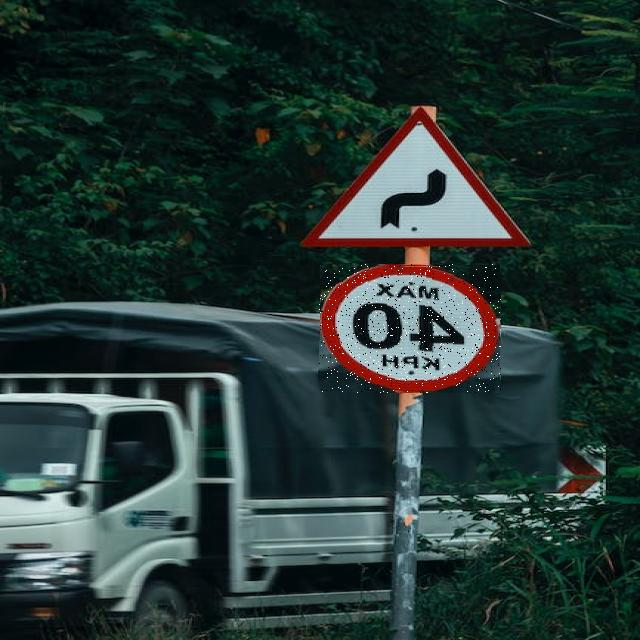speed limit 40: (319, 264, 501, 393)
